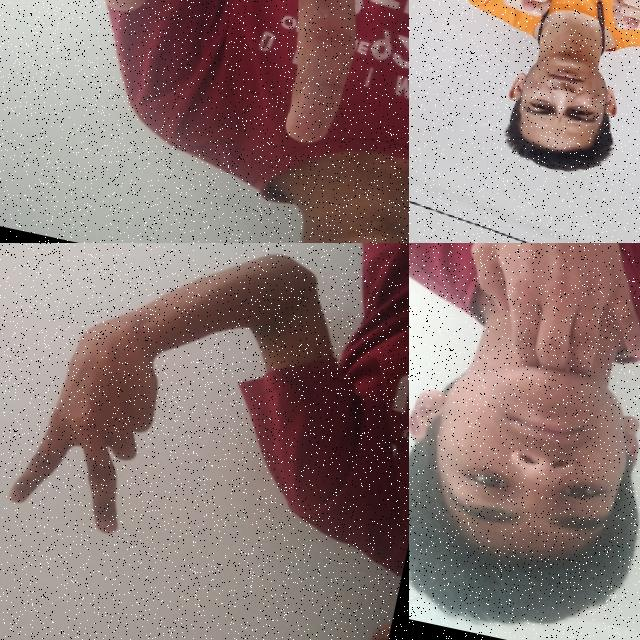Chin Flick: (409, 243, 640, 640)
Corna: (75, 0, 409, 154)
Dulya: (482, 0, 568, 27), (599, 0, 640, 46)
Reversed Victory: (0, 287, 185, 545)
